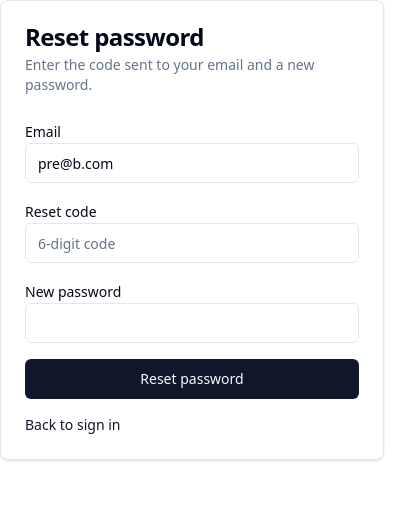
Test: auth-ui › Reset-password screen › surfaces a bad/expired OTP error
Type "999999" into the field labelled "Reset code" at (192, 243), box [25,223,359,263]
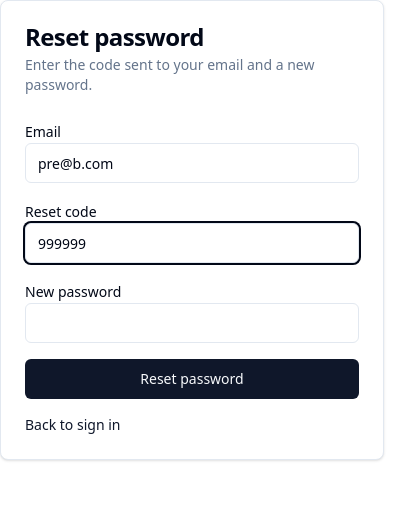
Type "Passw0rd" into the password field labelled "New password" at (192, 323), box [25,303,359,343]
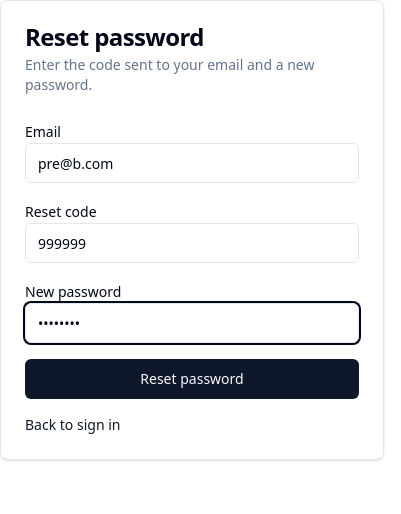
Click the button "Reset password" at (192, 379), box [25,359,359,399]
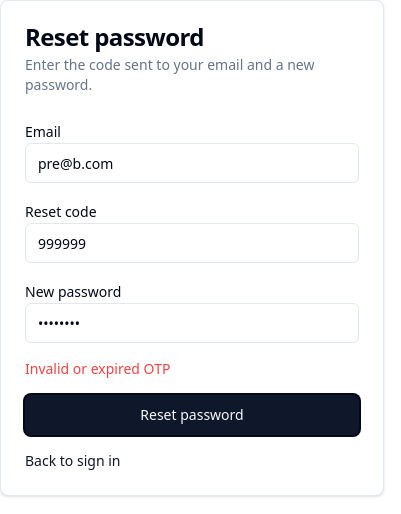
Check: the text "Invalid or expired OTP" is shown, box [25,359,170,378]
